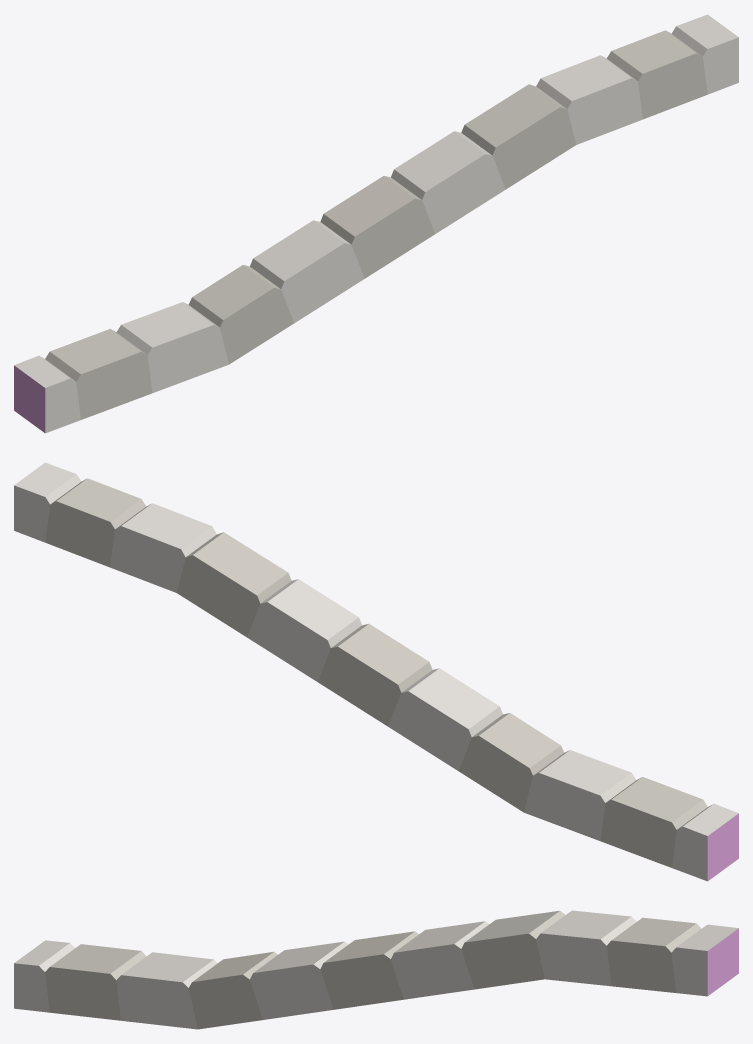
The model's file is Path_Edging_Stones_Incline_Gentle_1x4.glb.
3 views of the same model, one above another, from view 1: azimuth 30°, elevation 25°; view 2: azimuth 150°, elevation 25°; view 3: azimuth 330°, elevation 25° (orthographic).
Parts seen in each view (by area): view 1: Path_Edging_Stones_Incline_Gentle_1x4; view 2: Path_Edging_Stones_Incline_Gentle_1x4; view 3: Path_Edging_Stones_Incline_Gentle_1x4.
Part boxes in pixels (x1,y1,x2,y2): Path_Edging_Stones_Incline_Gentle_1x4: (14,14,738,433); Path_Edging_Stones_Incline_Gentle_1x4: (14,462,738,881); Path_Edging_Stones_Incline_Gentle_1x4: (14,910,738,1029).
Bounding box in the file's own units: 400 × 125 × 31.25.
